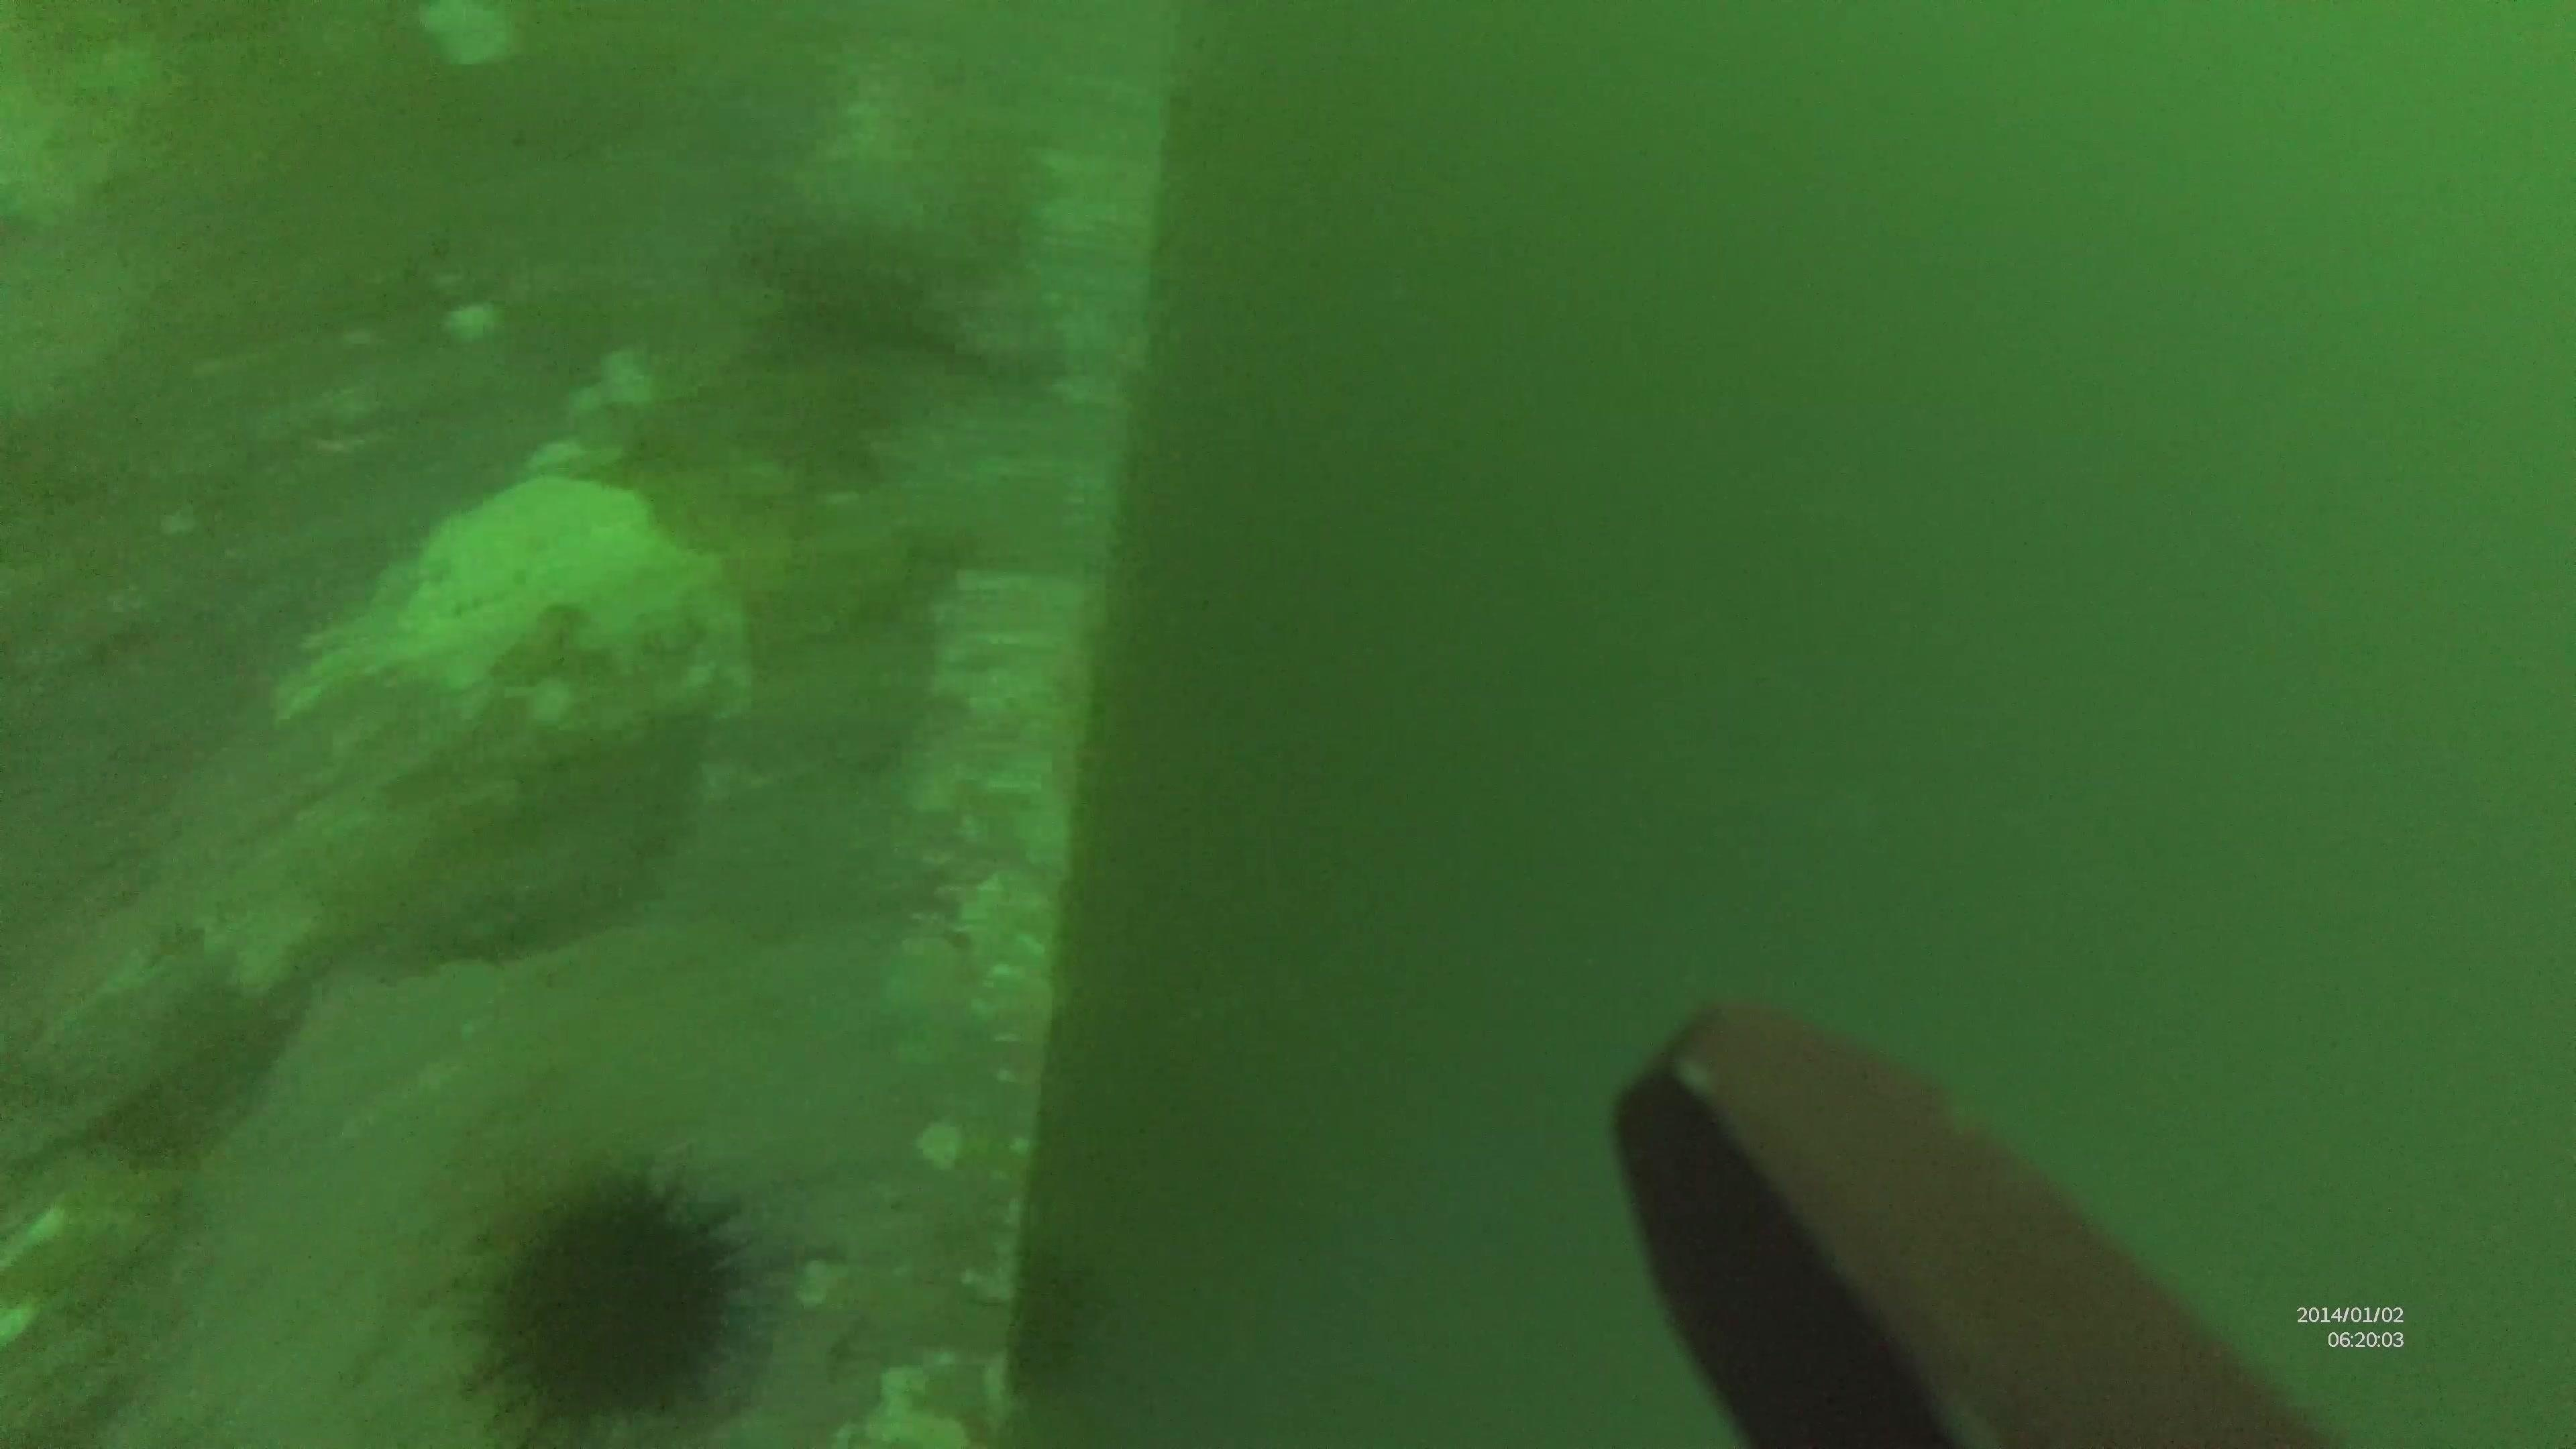echinus: (451, 1157, 770, 1435)
